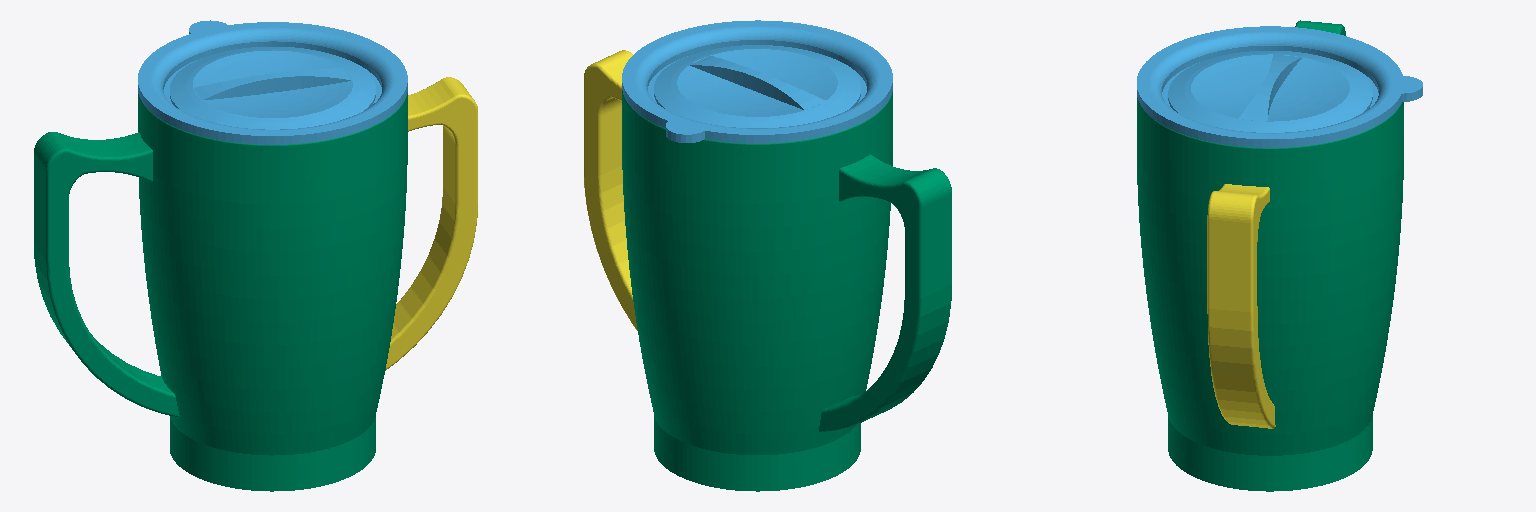
URDF robot description (partnet_fd1f9e8add1fcbd123c841f9d5051936):
<?xml version="1.0" ?>
<robot name="partnet_fd1f9e8add1fcbd123c841f9d5051936">
	<link name="base"/>
	<link name="link_0">
		<visual name="lid-3">
			<origin xyz="0.0013007224518146773 0 0.006225716369432219"/>
			<geometry>
				<mesh filename="textured_objs/original-1.obj" scale="0.1 0.1 0.1"/>
			</geometry>
		</visual>
		<visual name="lid-3">
			<origin xyz="0.0013007224518146773 0 0.006225716369432219"/>
			<geometry>
				<mesh filename="textured_objs/original-6.obj" scale="0.1 0.1 0.1"/>
			</geometry>
		</visual>
		<visual name="lid-3">
			<origin xyz="0.0013007224518146773 0 0.006225716369432219"/>
			<geometry>
				<mesh filename="textured_objs/original-4.obj" scale="0.1 0.1 0.1"/>
			</geometry>
		</visual>
		<collision>
			<origin xyz="0.0013007224518146773 0 0.006225716369432219"/>
			<geometry>
				<mesh filename="textured_objs/original-1.obj" scale="0.1 0.1 0.1"/>
			</geometry>
		</collision>
		<collision>
			<origin xyz="0.0013007224518146773 0 0.006225716369432219"/>
			<geometry>
				<mesh filename="textured_objs/original-6.obj" scale="0.1 0.1 0.1"/>
			</geometry>
		</collision>
		<collision>
			<origin xyz="0.0013007224518146773 0 0.006225716369432219"/>
			<geometry>
				<mesh filename="textured_objs/original-4.obj" scale="0.1 0.1 0.1"/>
			</geometry>
		</collision>
	</link>
	<joint name="joint_0" type="prismatic">
		<origin xyz="-0.0013007224518146773 0 -0.006225716369432219"/>
		<axis xyz="0 1 0"/>
		<child link="link_0"/>
		<parent link="link_1"/>
		<limit lower="0" upper="0.1080000000000001"/>
	</joint>
	<link name="link_1">
		<visual name="body-1">
			<origin xyz="0 0 0"/>
			<geometry>
				<mesh filename="textured_objs/original-2.obj" scale="0.1 0.1 0.1"/>
			</geometry>
		</visual>
		<visual name="body-1">
			<origin xyz="0 0 0"/>
			<geometry>
				<mesh filename="textured_objs/new-0.obj" scale="0.1 0.1 0.1"/>
			</geometry>
		</visual>
		<visual name="body-1">
			<origin xyz="0 0 0"/>
			<geometry>
				<mesh filename="textured_objs/new-1.obj" scale="0.1 0.1 0.1"/>
			</geometry>
		</visual>
		<visual name="handle-2">
			<origin xyz="0 0 0"/>
			<geometry>
				<mesh filename="textured_objs/original-5.obj" scale="0.1 0.1 0.1"/>
			</geometry>
		</visual>
		<collision>
			<origin xyz="0 0 0"/>
			<geometry>
				<mesh filename="textured_objs/original-2.obj" scale="0.1 0.1 0.1"/>
			</geometry>
		</collision>
		<collision>
			<origin xyz="0 0 0"/>
			<geometry>
				<mesh filename="textured_objs/new-0.obj" scale="0.1 0.1 0.1"/>
			</geometry>
		</collision>
		<collision>
			<origin xyz="0 0 0"/>
			<geometry>
				<mesh filename="textured_objs/new-1.obj" scale="0.1 0.1 0.1"/>
			</geometry>
		</collision>
		<collision>
			<origin xyz="0 0 0"/>
			<geometry>
				<mesh filename="textured_objs/original-5.obj" scale="0.1 0.1 0.1"/>
			</geometry>
		</collision>
	</link>
	<joint name="joint_1" type="fixed">
		<origin rpy="1.570796326794897 0 -1.570796326794897" xyz="0 0 0"/>
		<child link="link_1"/>
		<parent link="base"/>
	</joint>

	<link name="link_2">
		<visual name="handle-3">
			<origin xyz="0 0 0"/>
			<geometry>
				<mesh filename="textured_objs/original-5.obj" scale="0.1 0.1 0.1"/>
			</geometry>
		</visual>
		<collision>
			<origin xyz="0 0 0"/>
			<geometry>
				<mesh filename="textured_objs/original-5.obj" scale="0.1 0.1 0.1"/>
			</geometry>
		</collision>
	</link>
	<joint name="joint_2" type="fixed">
		<origin rpy="1.570796326794897 0 1.570796326794897" xyz="0 0 0"/>
		<child link="link_2"/>
		<parent link="base"/>
	</joint>
</robot>

--- What the picture shows (computed from the rendered views, not written in the file) ---
3 views of the same robot in one strip: view 1: azimuth 30°, elevation 25°; view 2: azimuth 150°, elevation 25°; view 3: azimuth 270°, elevation 25° (orthographic).
Robot: partnet_fd1f9e8add1fcbd123c841f9d5051936 — 4 links, 3 joints (1 prismatic, 2 fixed); root link base; default pose: all joints at 0.
Links seen in each view (by area): view 1: link_1, link_0, link_2; view 2: link_1, link_0, link_2; view 3: link_1, link_0, link_2.
Link boxes in pixels (<box>): link_1: <box>34,92,407,491</box>; link_0: <box>138,20,407,144</box>; link_2: <box>385,77,477,370</box>; link_1: <box>622,91,951,491</box>; link_0: <box>622,20,892,143</box>; link_2: <box>584,50,637,330</box>; link_1: <box>1137,20,1403,491</box>; link_0: <box>1137,26,1422,147</box>; link_2: <box>1207,184,1275,428</box>.
Bounding box of the posed robot: 0.1754 × 0.112 × 0.1587 m (x, y, z).
8 mesh visuals loaded from 7 distinct referenced files (7 OBJ).
